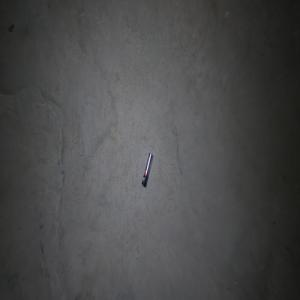Battery: (141, 151, 153, 187)
